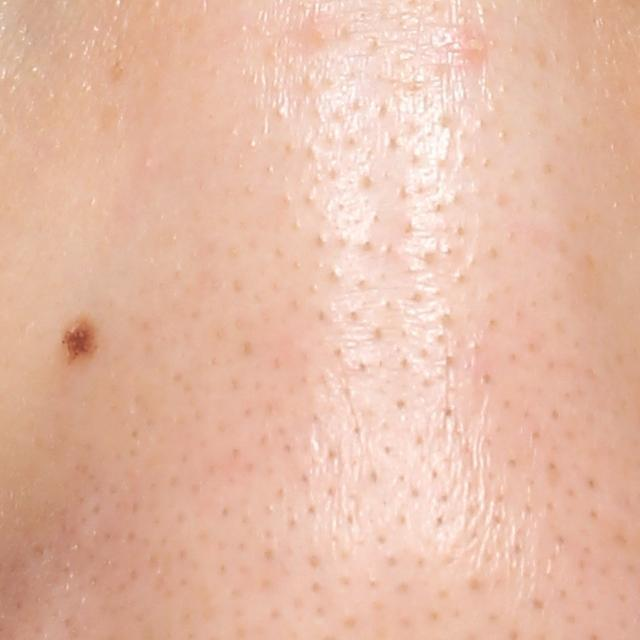nevus: (56, 314, 102, 371)
